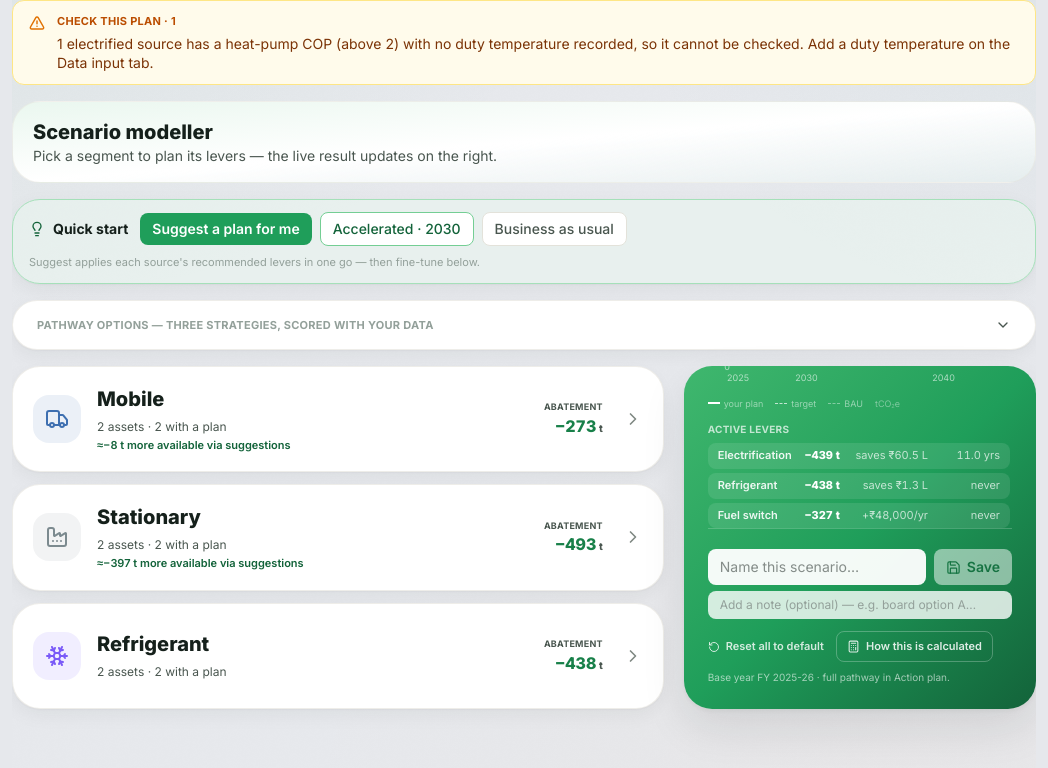
Test case: BuilderTab — scenario notes / duplicate / diff › duplicate creates an editable copy
(page scrolled)
In the field with placeholder "Name this scenario…": (817, 567) top-left (708, 549), bottom-right (926, 585), type "Base plan"
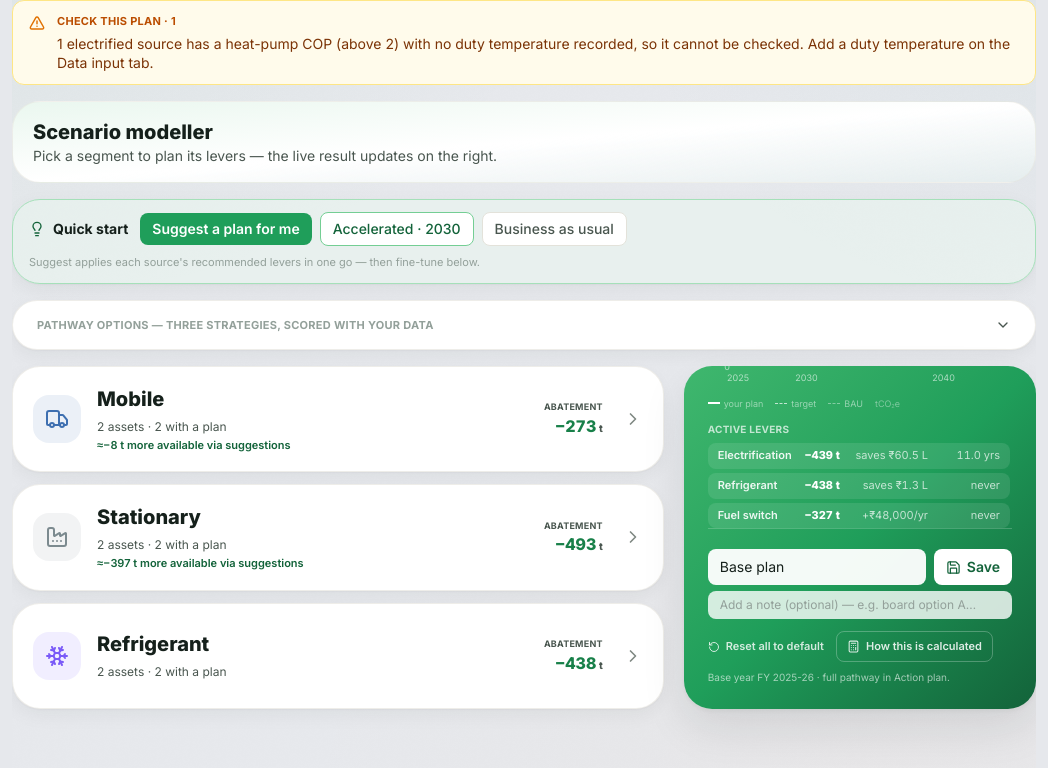
Click the button "Save": (973, 567) top-left (934, 549), bottom-right (1012, 585)
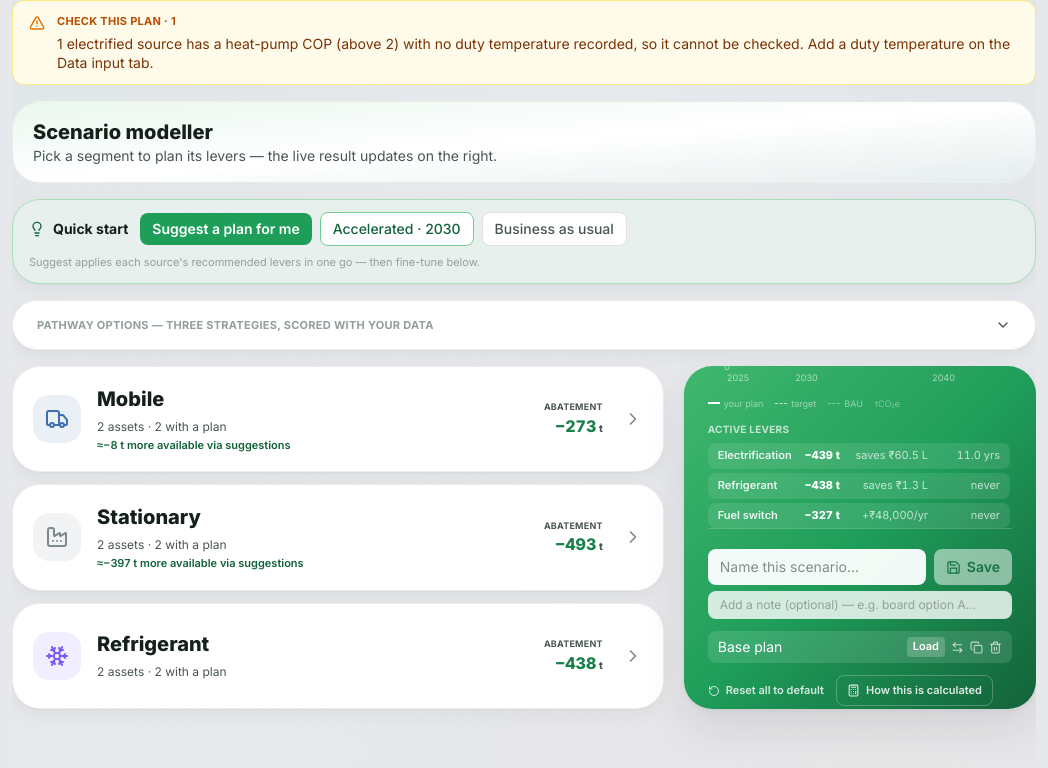
Click the button named "Duplicate Base plan": (976, 647) top-left (970, 641), bottom-right (983, 654)
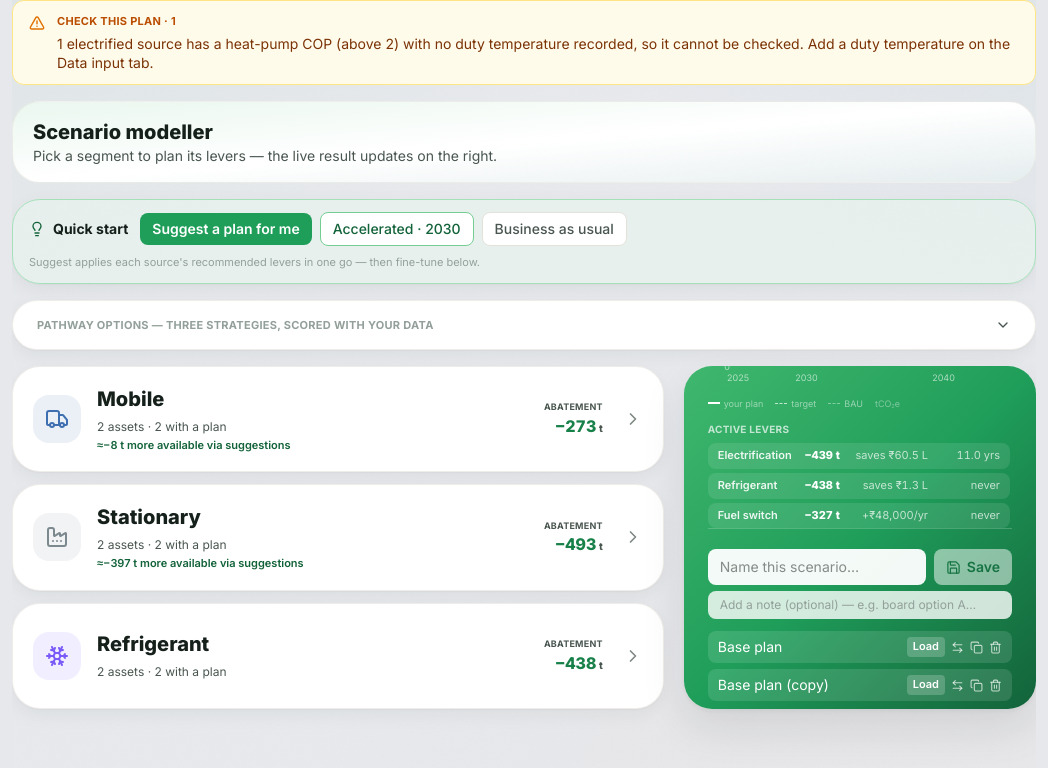
Result: the text "Base plan (copy)" is shown at top-left (718, 676), bottom-right (829, 693)
